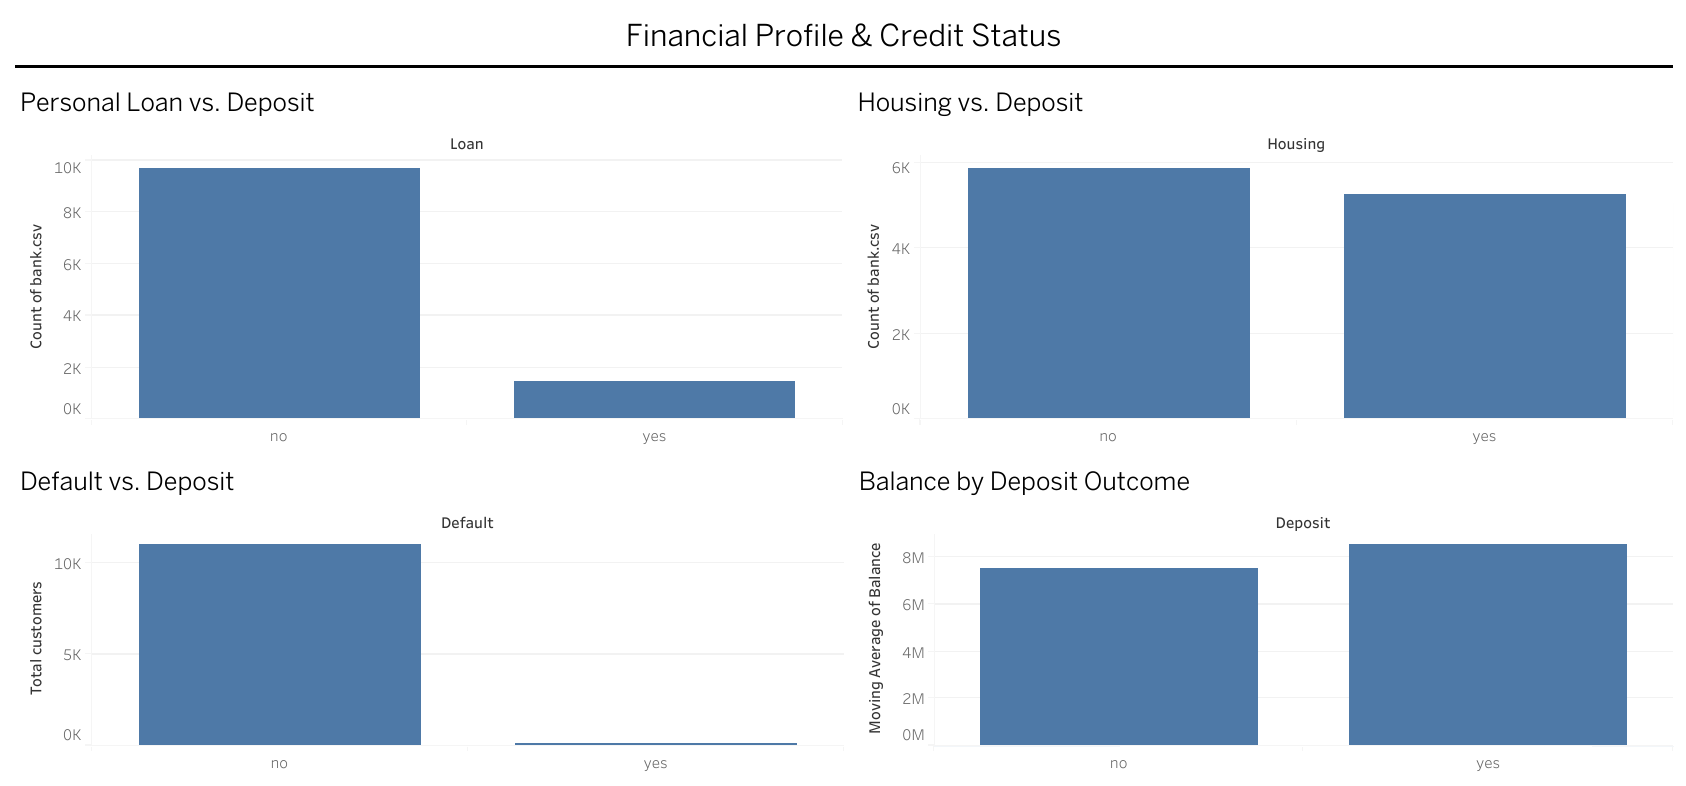

This screenshot's page, from the dashboard's own definition file:
{"tool":"tableau","page":{"name":"Financial Profile & Credit Status","canvas":[1000,1000],"units":"permille","ordinal":2},"visuals":[{"type":"title","box":[5.9,9.8,988.1,56.6]},{"type":"blank","box":[5.9,66.5,988.1,12.3]},{"type":"worksheet","title":"Personal Loan vs. Deposit","mark":"Automatic","rows":["bank.csv_5F495EC41D58405BA9B4A77E23A2D9A4"],"cols":["loan"],"box":[5.9,78.8,497.4,373.2]},{"type":"worksheet","title":"Housing vs. Deposit","mark":"Automatic","rows":["bank.csv_5F495EC41D58405BA9B4A77E23A2D9A4"],"cols":["housing"],"box":[503.3,78.8,490.7,373.2]},{"type":"worksheet","title":"Default vs. Deposit","mark":"Bar","rows":["Calculation_1377820076497006594"],"cols":["default"],"box":[5.9,452,497,538.2]},{"type":"worksheet","title":"Balance by Deposit Outcome","mark":"Automatic","rows":["balance"],"cols":["deposit"],"box":[503,452,491.1,538.2]}]}

Visuals, with their boxes on the dashboard's canvas, which has no fixed pixel size, in thousandths of its width and height (x1, y1, x2, y2). These are canvas units, not pixel positions in the 1686x786 screenshot, which may show the page scaled, cropped or inside an application window:
title: [6,10,994,66]
blank: [6,66,994,79]
"Personal Loan vs. Deposit" worksheet: [6,79,503,452]
"Housing vs. Deposit" worksheet: [503,79,994,452]
"Default vs. Deposit" worksheet (Bar marks): [6,452,503,990]
"Balance by Deposit Outcome" worksheet: [503,452,994,990]
